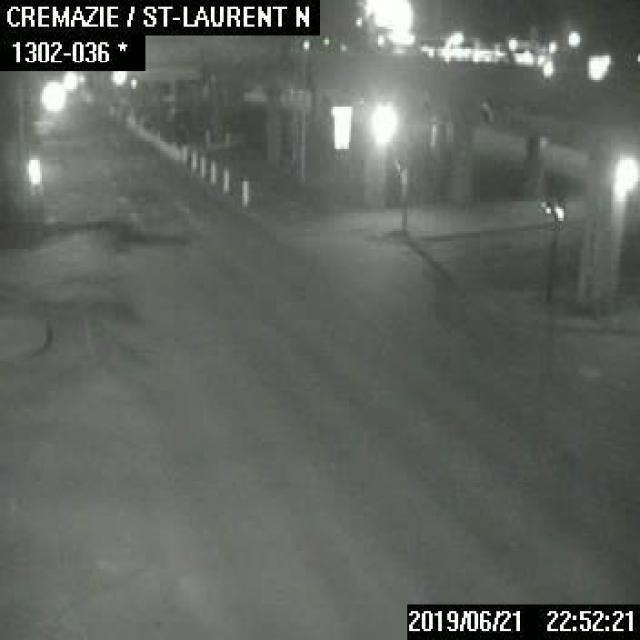construction: (222, 161, 231, 193), (240, 174, 249, 204), (198, 153, 206, 173), (188, 148, 196, 167), (208, 161, 216, 180)
